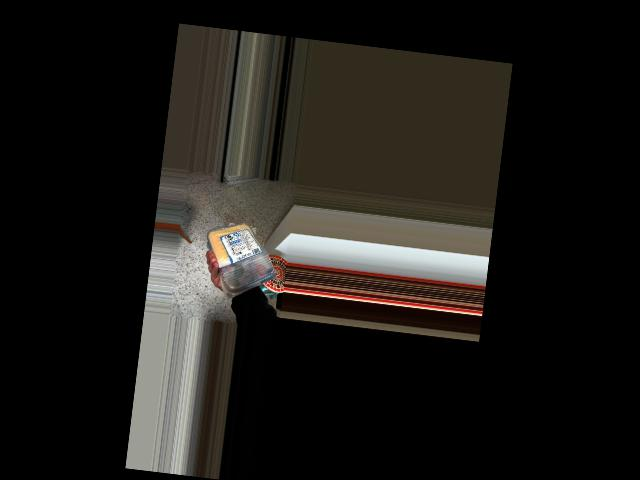cheese: (210, 217, 280, 293)
